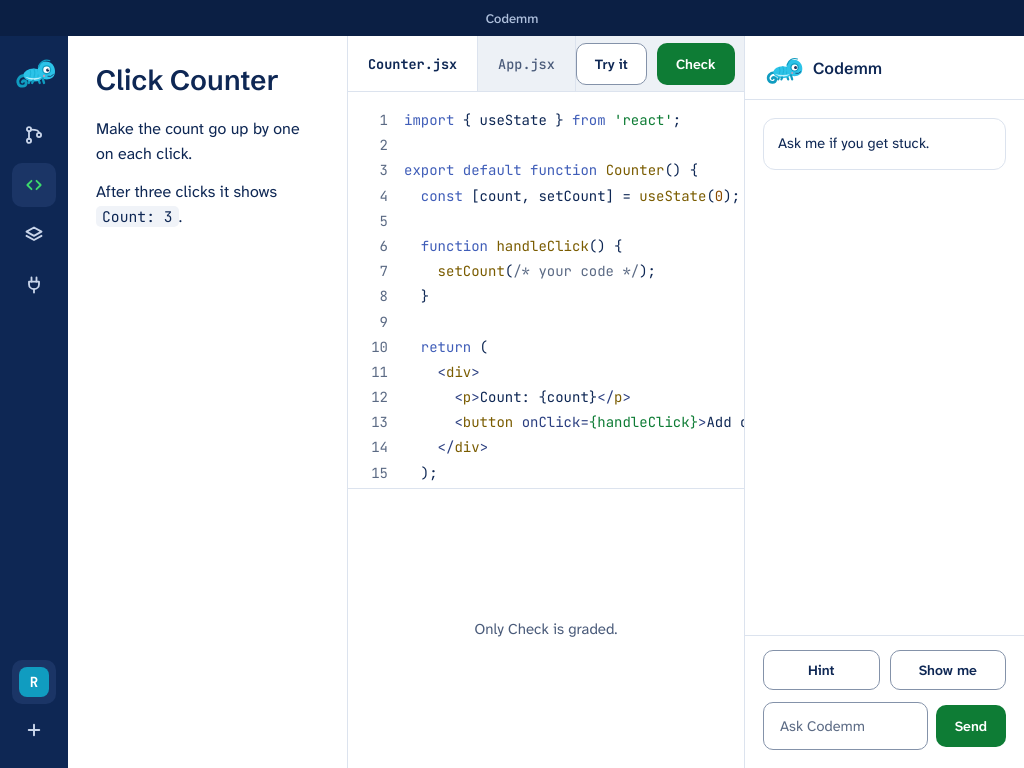
Test: practice › keeps unchecked code when the learner leaves and comes back
Expected: the heading "Click Counter" is shown, [96,63,279,97]
Clear the text box named "Counter.jsx". click: (644, 322)
box: [404,108,884,536]
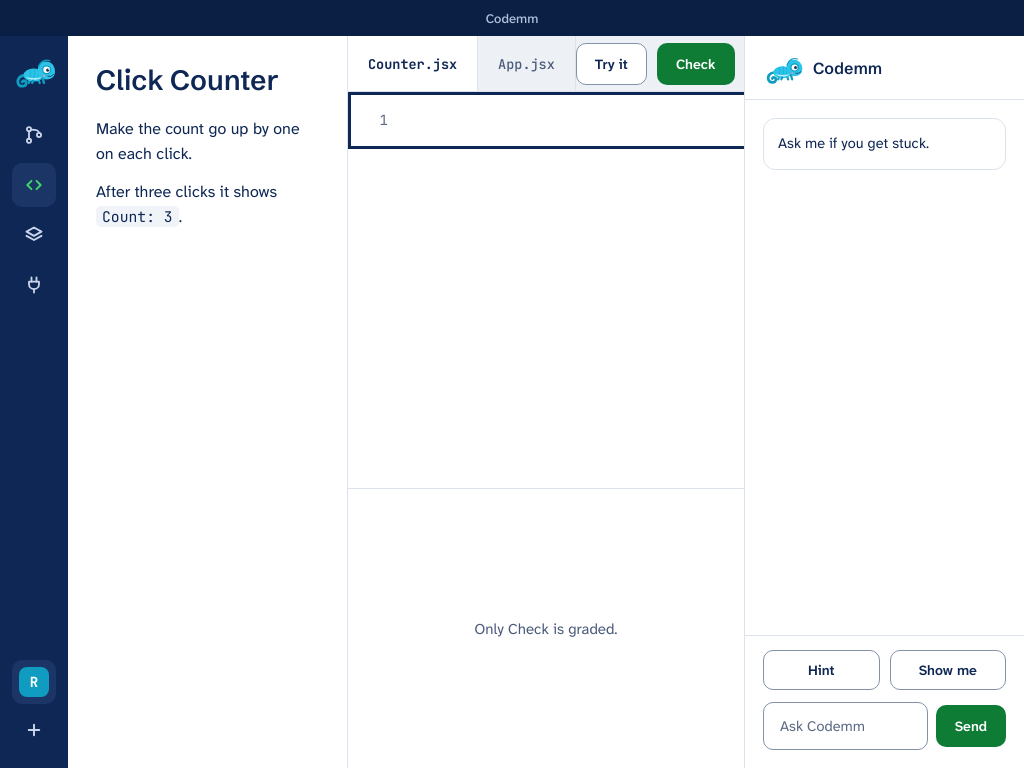
Type "draft" into the text box named "Counter.jsx". click: (644, 121)
box: [404,108,884,133]
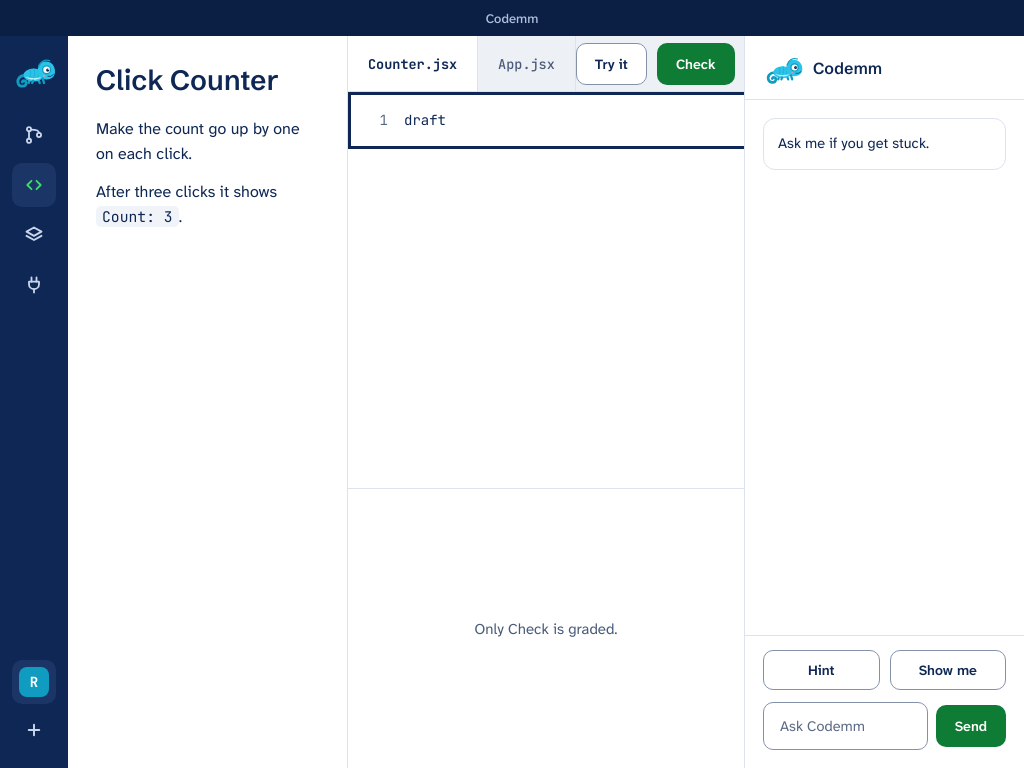
Click the button named "Learn". click: (34, 135)
box: [12,113,56,157]
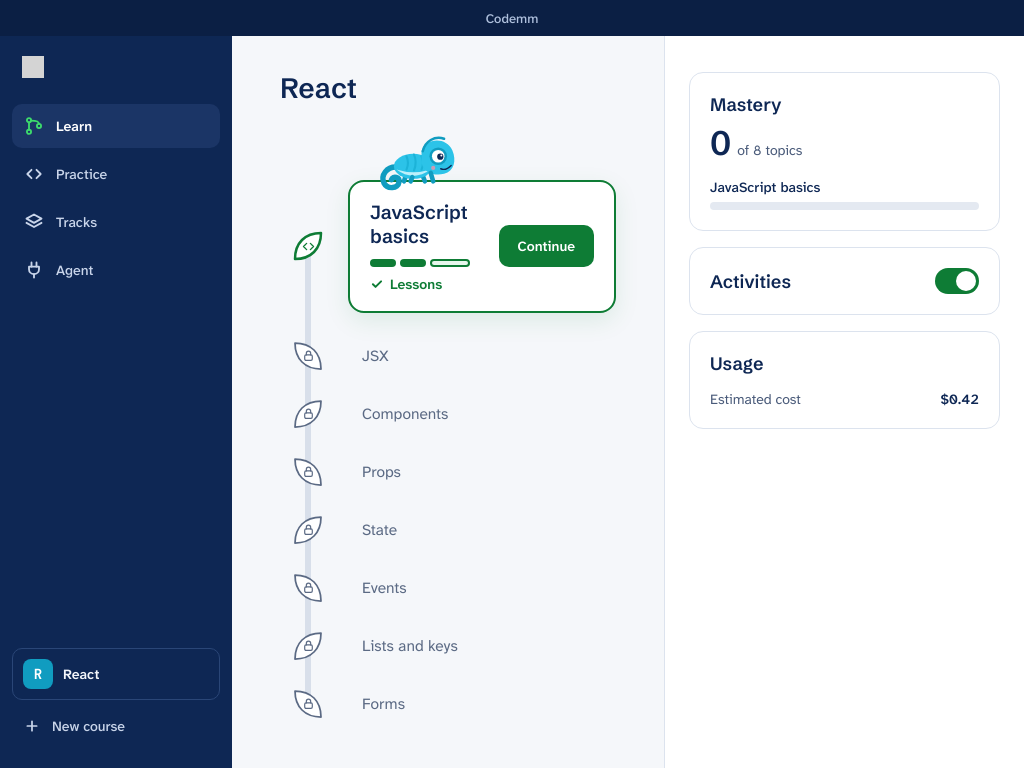
Now the list named "Topics" is shown, box [280,122,616,733]
Click the button "Practice". click: (116, 174)
box: [12,152,220,196]
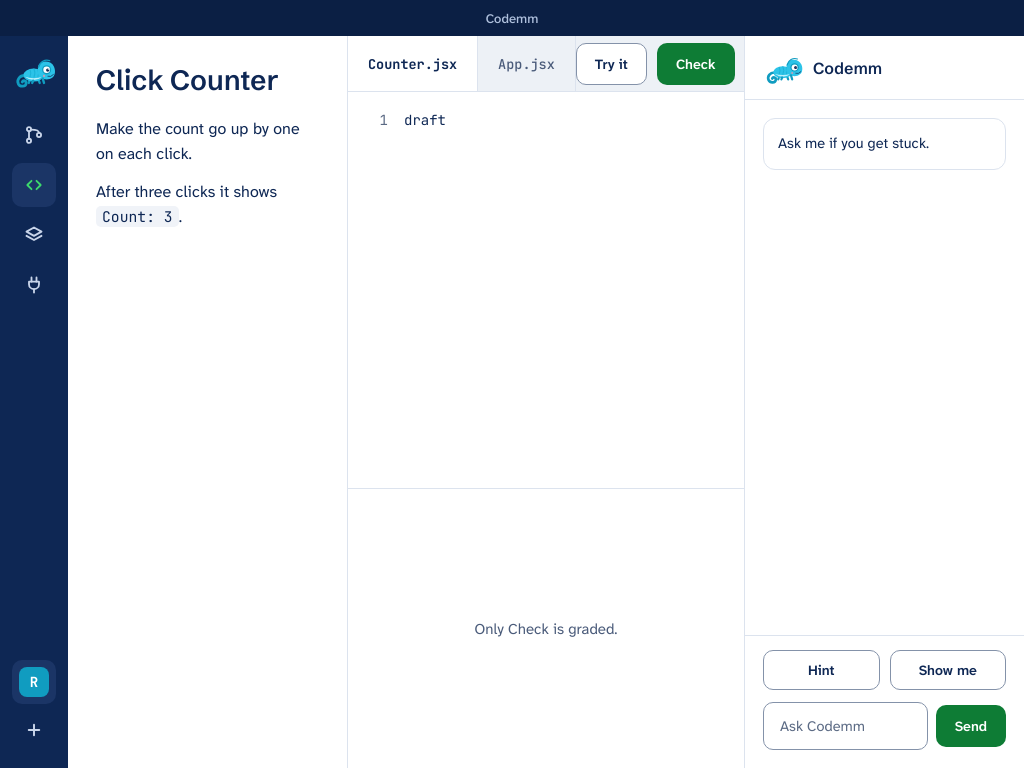
Now the text box named "Counter.jsx" holds "draft", box [404,108,744,133]
